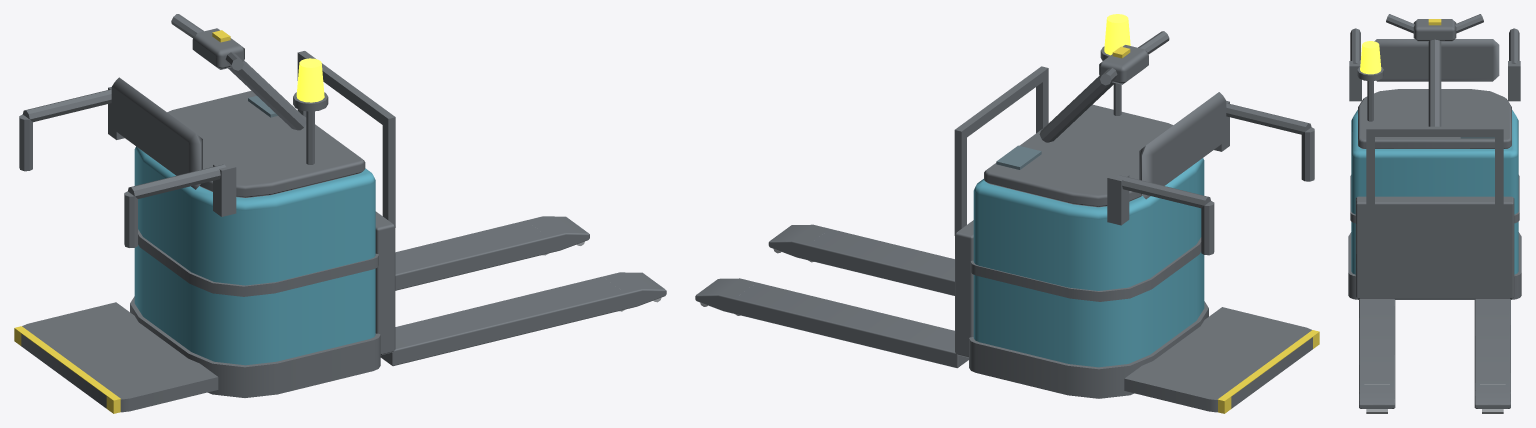
File: pallet_truck.glb
3 views of the same model, side by side, from view 1: azimuth 30°, elevation 25°; view 2: azimuth 150°, elevation 25°; view 3: azimuth 270°, elevation 25° (orthographic). The views are drawn at different scales.
Visible parts, largest first — view 1: root__livery, root__graphite, forks__graphite.002, root__graphite.001, root__graphite.002, forks__graphite.001, forks__graphite, tiller__graphite, tiller__graphite.001, root__hazard_yellow, beacon__beacon; view 2: root__livery, root__graphite, forks__graphite.002, root__graphite.001, root__graphite.002, forks__graphite.001, forks__graphite, tiller__graphite, tiller__graphite.001, root__hazard_yellow, beacon__beacon, root__glass; view 3: forks__graphite, root__livery, forks__graphite.002, root__graphite.001, root__graphite.002, root__graphite, forks__graphite.001, tiller__graphite, tiller__graphite.001, beacon__beacon, forks__steel.
Part boxes in pixels (x1,y1,x2,y2): root__livery: [134, 146, 375, 365]; root__graphite: [19, 87, 380, 412]; forks__graphite.002: [380, 216, 666, 366]; root__graphite.001: [167, 91, 365, 197]; root__graphite.002: [111, 77, 202, 189]; forks__graphite.001: [297, 51, 395, 227]; forks__graphite: [375, 211, 395, 355]; tiller__graphite: [171, 14, 306, 130]; tiller__graphite.001: [192, 28, 244, 69]; root__hazard_yellow: [14, 326, 120, 413]; beacon__beacon: [296, 58, 324, 102]; root__livery: [973, 158, 1204, 367]; root__graphite: [969, 46, 1314, 412]; forks__graphite.002: [695, 224, 968, 368]; root__graphite.001: [984, 104, 1173, 207]; root__graphite.002: [1139, 92, 1226, 199]; forks__graphite.001: [954, 66, 1048, 235]; forks__graphite: [955, 220, 973, 357]; tiller__graphite: [1039, 31, 1169, 142]; tiller__graphite.001: [1099, 45, 1148, 84]; root__hazard_yellow: [1217, 330, 1319, 413]; beacon__beacon: [1104, 14, 1130, 55]; root__glass: [996, 145, 1041, 169]; forks__graphite: [1355, 196, 1514, 298]; root__livery: [1351, 110, 1518, 274]; forks__graphite.002: [1359, 298, 1510, 408]; root__graphite.001: [1358, 89, 1511, 148]; root__graphite.002: [1374, 39, 1499, 81]; root__graphite: [1348, 28, 1521, 299]; forks__graphite.001: [1366, 126, 1503, 212]; tiller__graphite: [1386, 14, 1483, 126]; tiller__graphite.001: [1413, 19, 1456, 41]; beacon__beacon: [1360, 41, 1381, 74]; forks__steel: [1364, 384, 1505, 413].
Size of the model in its own units: 2.25 by 1.29 by 0.81.
